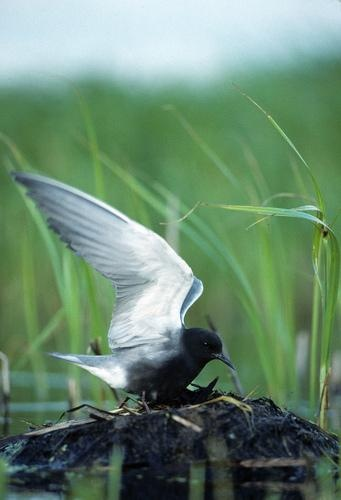bird: (10, 166, 249, 405)
